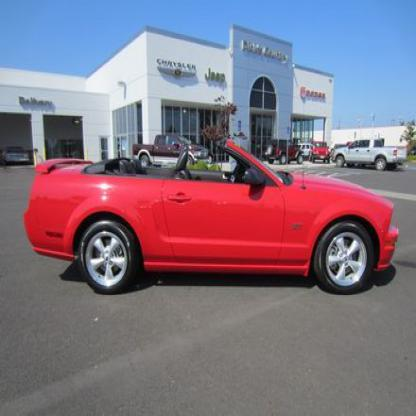Vehicle: (20, 138, 402, 298)
